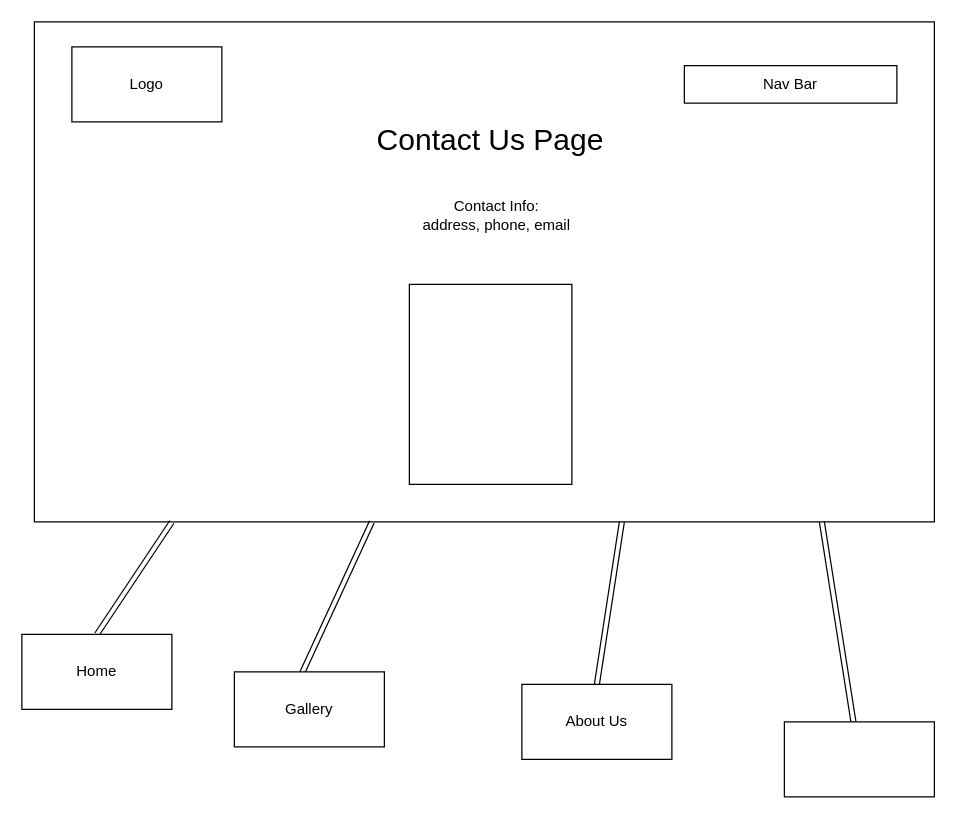
Some shapes in this 956 by 819 pixel diagram are drawn without their labels. The box of each missing label's shape, as (x1, y1, x2, y2) in pixels:
Contact Us Form: (408, 283, 572, 484)
Order Parts: (783, 721, 934, 797)
